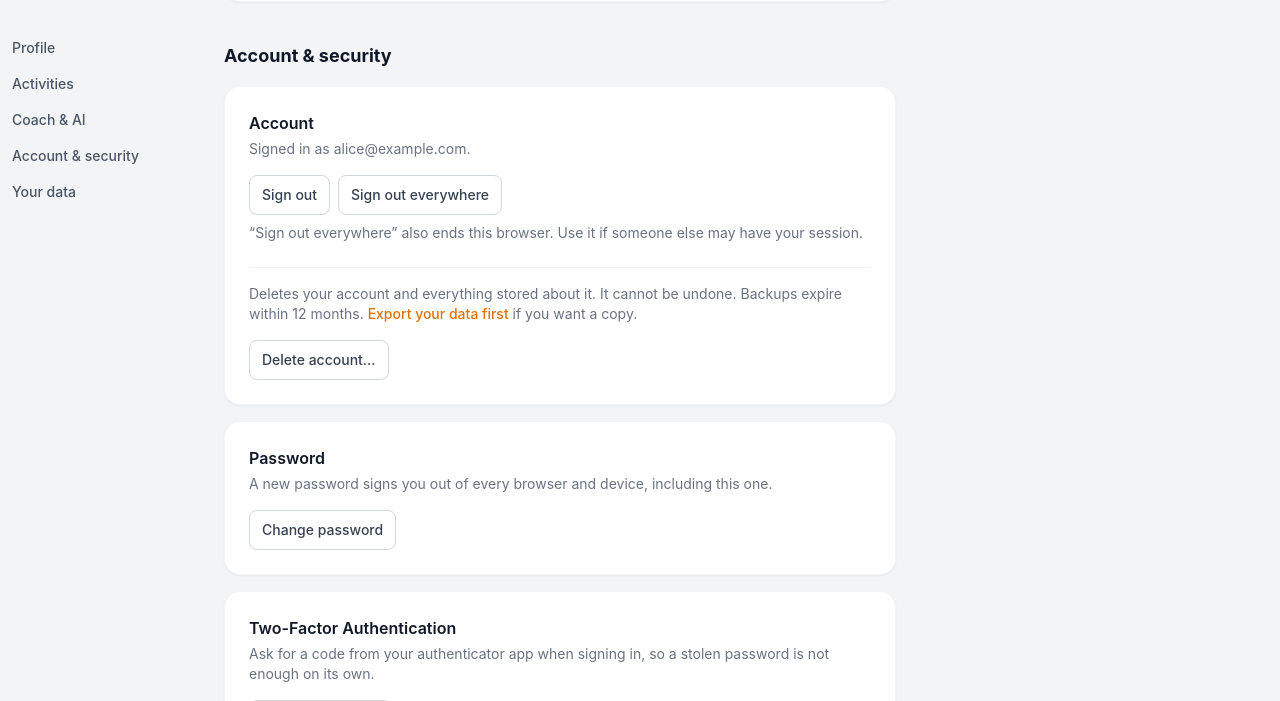
Test: SettingsPage › keeps the session when the deletion is refused
(page scrolled)
Click the button "Delete account…" at point(319, 360), box [249,340,389,380]
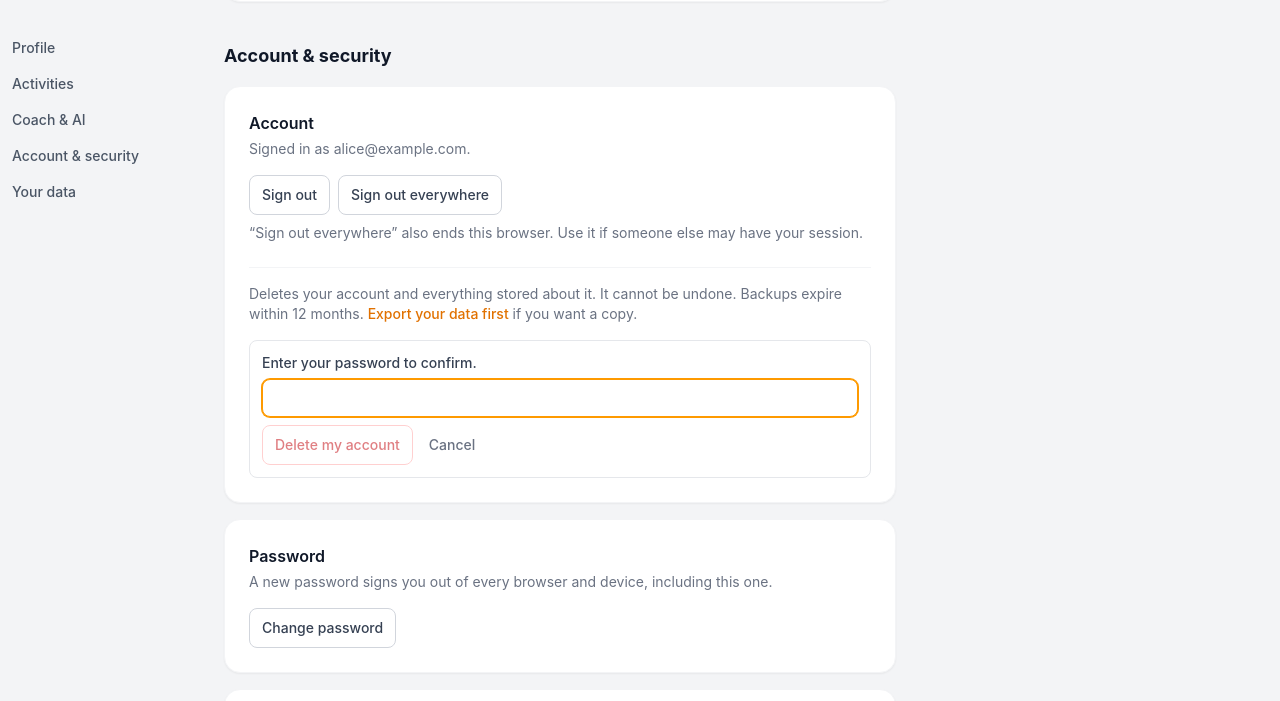
Type "wrong" into the password field labelled "Enter your password to confirm." at point(560, 398), box [262,379,858,417]
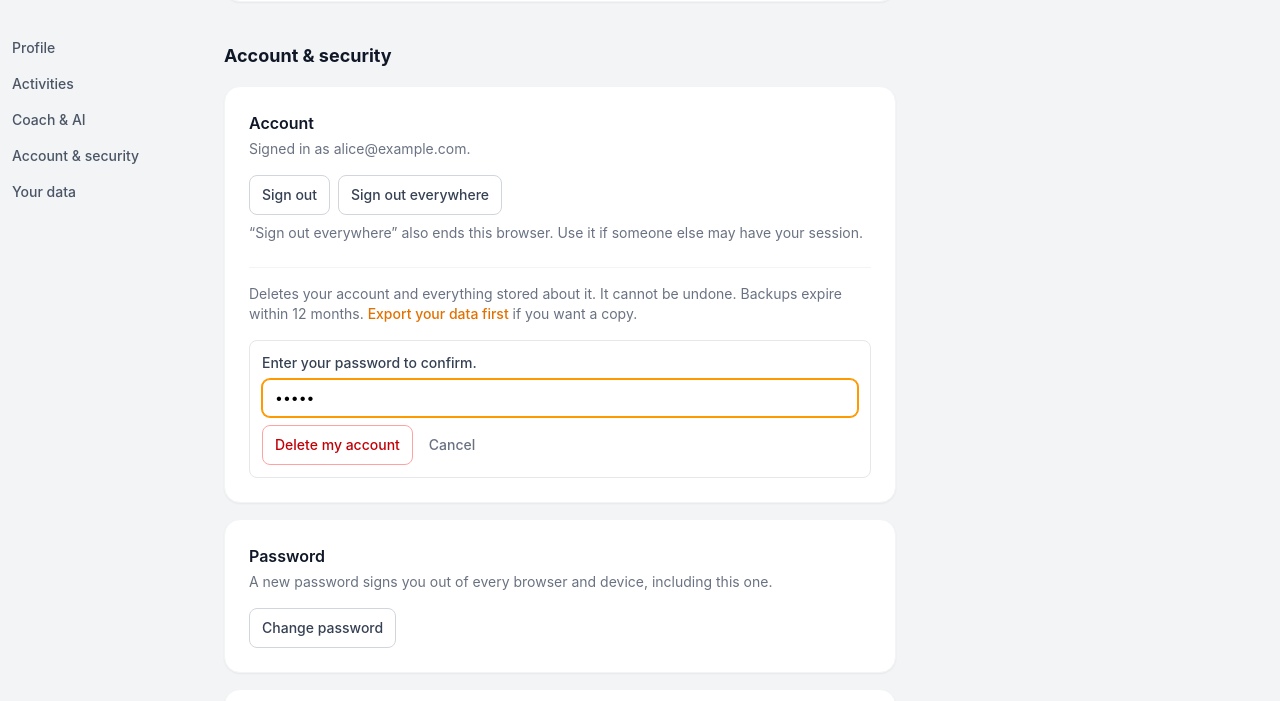
Click the button "Delete my account" at point(337, 445), box [262,425,413,465]
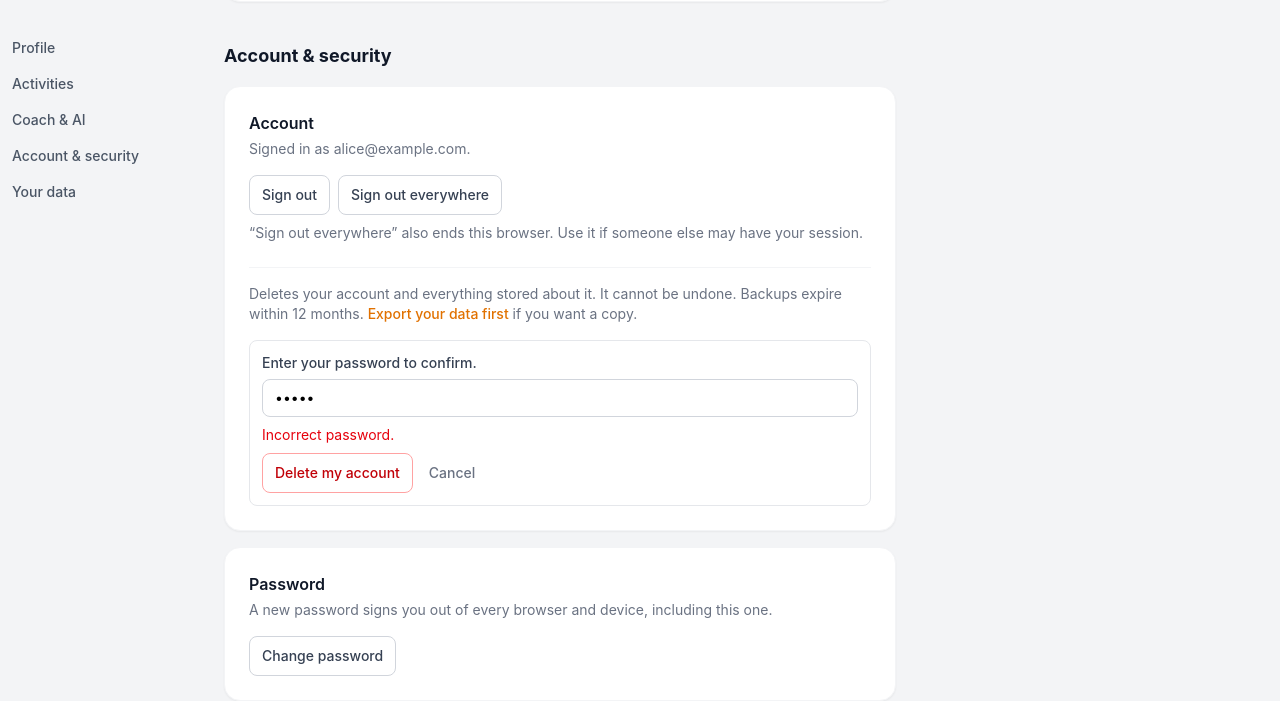
Check: the text "Incorrect password." is shown, box [262,426,394,443]
